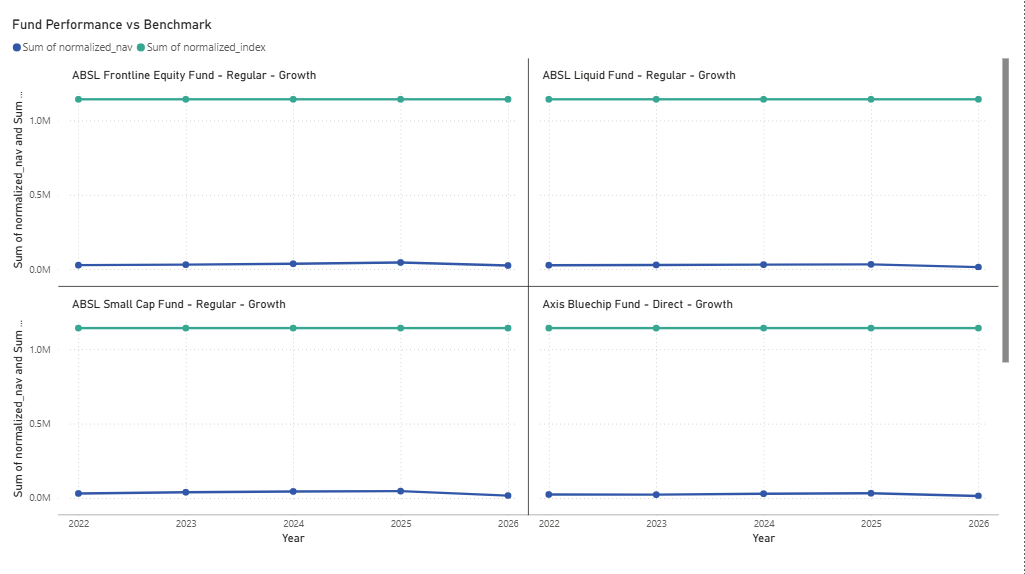

What the dashboard file says about the page in this screenshot:
{"tool":"powerbi","page":{"name":"NAV Comparison","canvas":[1280,720],"ordinal":2},"visuals":[{"type":"lineChart","title":"Fund Performance vs Benchmark","fields":{"Category":["normalized_nav.date.Variation.Date Hierarchy.Year","normalized_nav.date.Variation.Date Hierarchy.Quarter","normalized_nav.date.Variation.Date Hierarchy.Month","normalized_nav.date.Variation.Date Hierarchy.Day","normalized_benchmark.index_name"],"Y":["Sum(normalized_nav.normalized_nav)","Sum(normalized_benchmark.normalized_index)"],"Rows":["01_fund_master_clean.scheme_name"]},"box":[9.7,19.5,1256.7,668.2],"z":0}]}

Visuals, with their boxes in screenshot pixels (x1, y1, x2, y2), scaled from the page's 1280x720 canvas onto the 1025x574 screenshot:
"Fund Performance vs Benchmark" lineChart: bbox(8, 16, 1014, 548)
